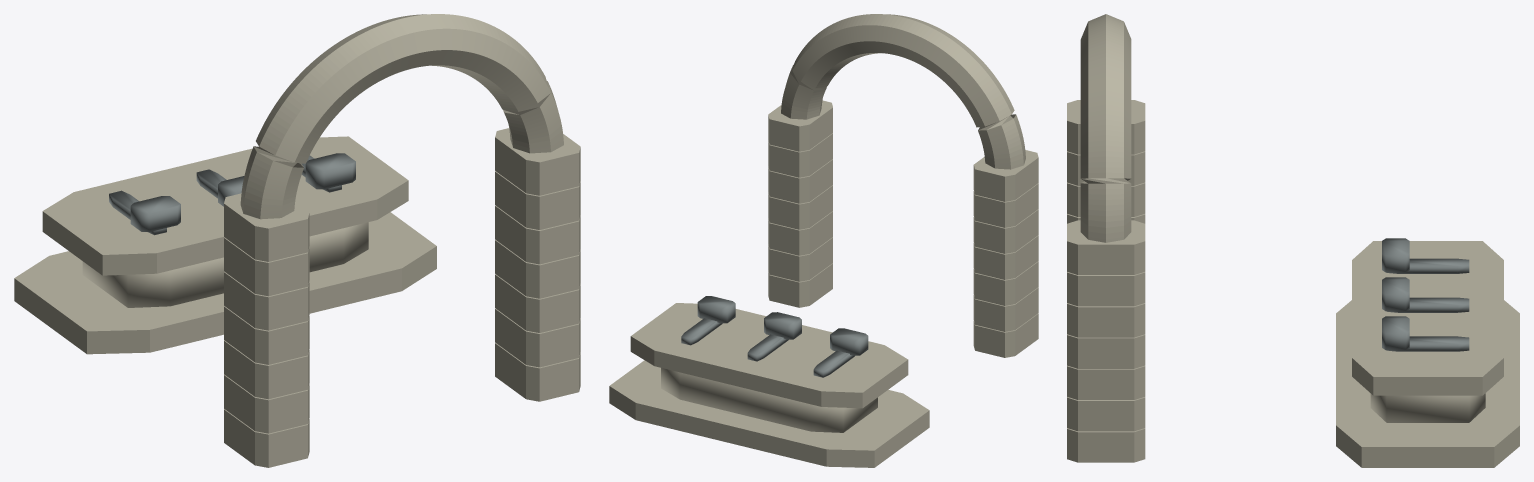
Rendered from SpringFusionBase.fbx.
3 renders of one model, left to right at view 1: azimuth 30°, elevation 25°; view 2: azimuth 150°, elevation 25°; view 3: azimuth 270°, elevation 25°, orthographic. The views are drawn at different scales.
Visible parts, largest first — view 1: Arch, AltarStone, AltarTools; view 2: Arch, AltarStone, AltarTools; view 3: AltarStone, Arch, AltarTools.
Boxes of the visible parts, x1,y1,x2,y2 form: Arch: (224, 14, 580, 467); AltarStone: (14, 136, 436, 354); AltarTools: (109, 153, 355, 235); Arch: (768, 14, 1038, 357); AltarStone: (609, 303, 929, 467); AltarTools: (681, 296, 868, 377); AltarStone: (1336, 241, 1519, 467); Arch: (1067, 14, 1145, 462); AltarTools: (1382, 238, 1469, 351).
Bounding box in the file's own units: 800 × 865 × 985.
